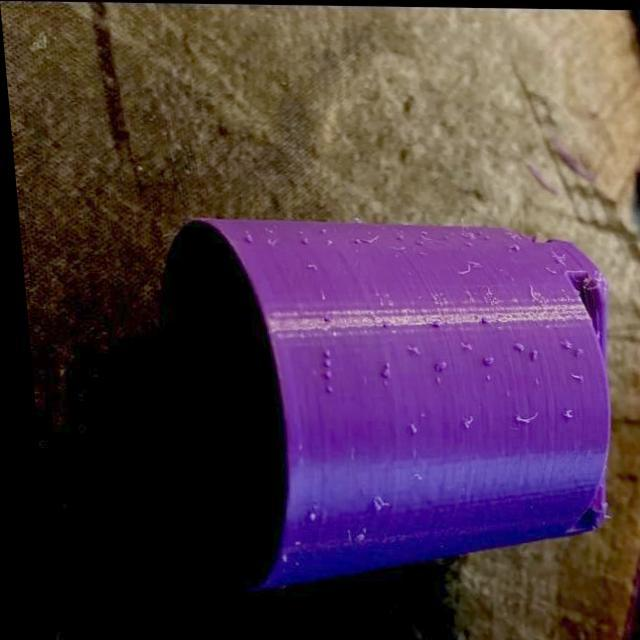zits: (340, 524, 359, 548), (370, 362, 385, 376), (567, 344, 582, 357), (399, 420, 412, 435), (426, 358, 442, 370), (318, 381, 332, 394), (476, 350, 489, 364), (506, 239, 520, 252), (316, 343, 328, 358), (522, 344, 536, 356), (554, 334, 566, 348), (507, 337, 518, 351), (296, 232, 308, 244), (316, 367, 329, 378), (316, 353, 326, 366), (474, 314, 485, 325), (298, 506, 306, 521), (477, 230, 488, 240)
